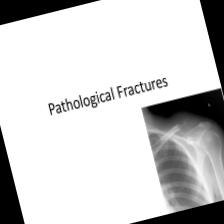pathological-fracture: (141, 86, 224, 213)
